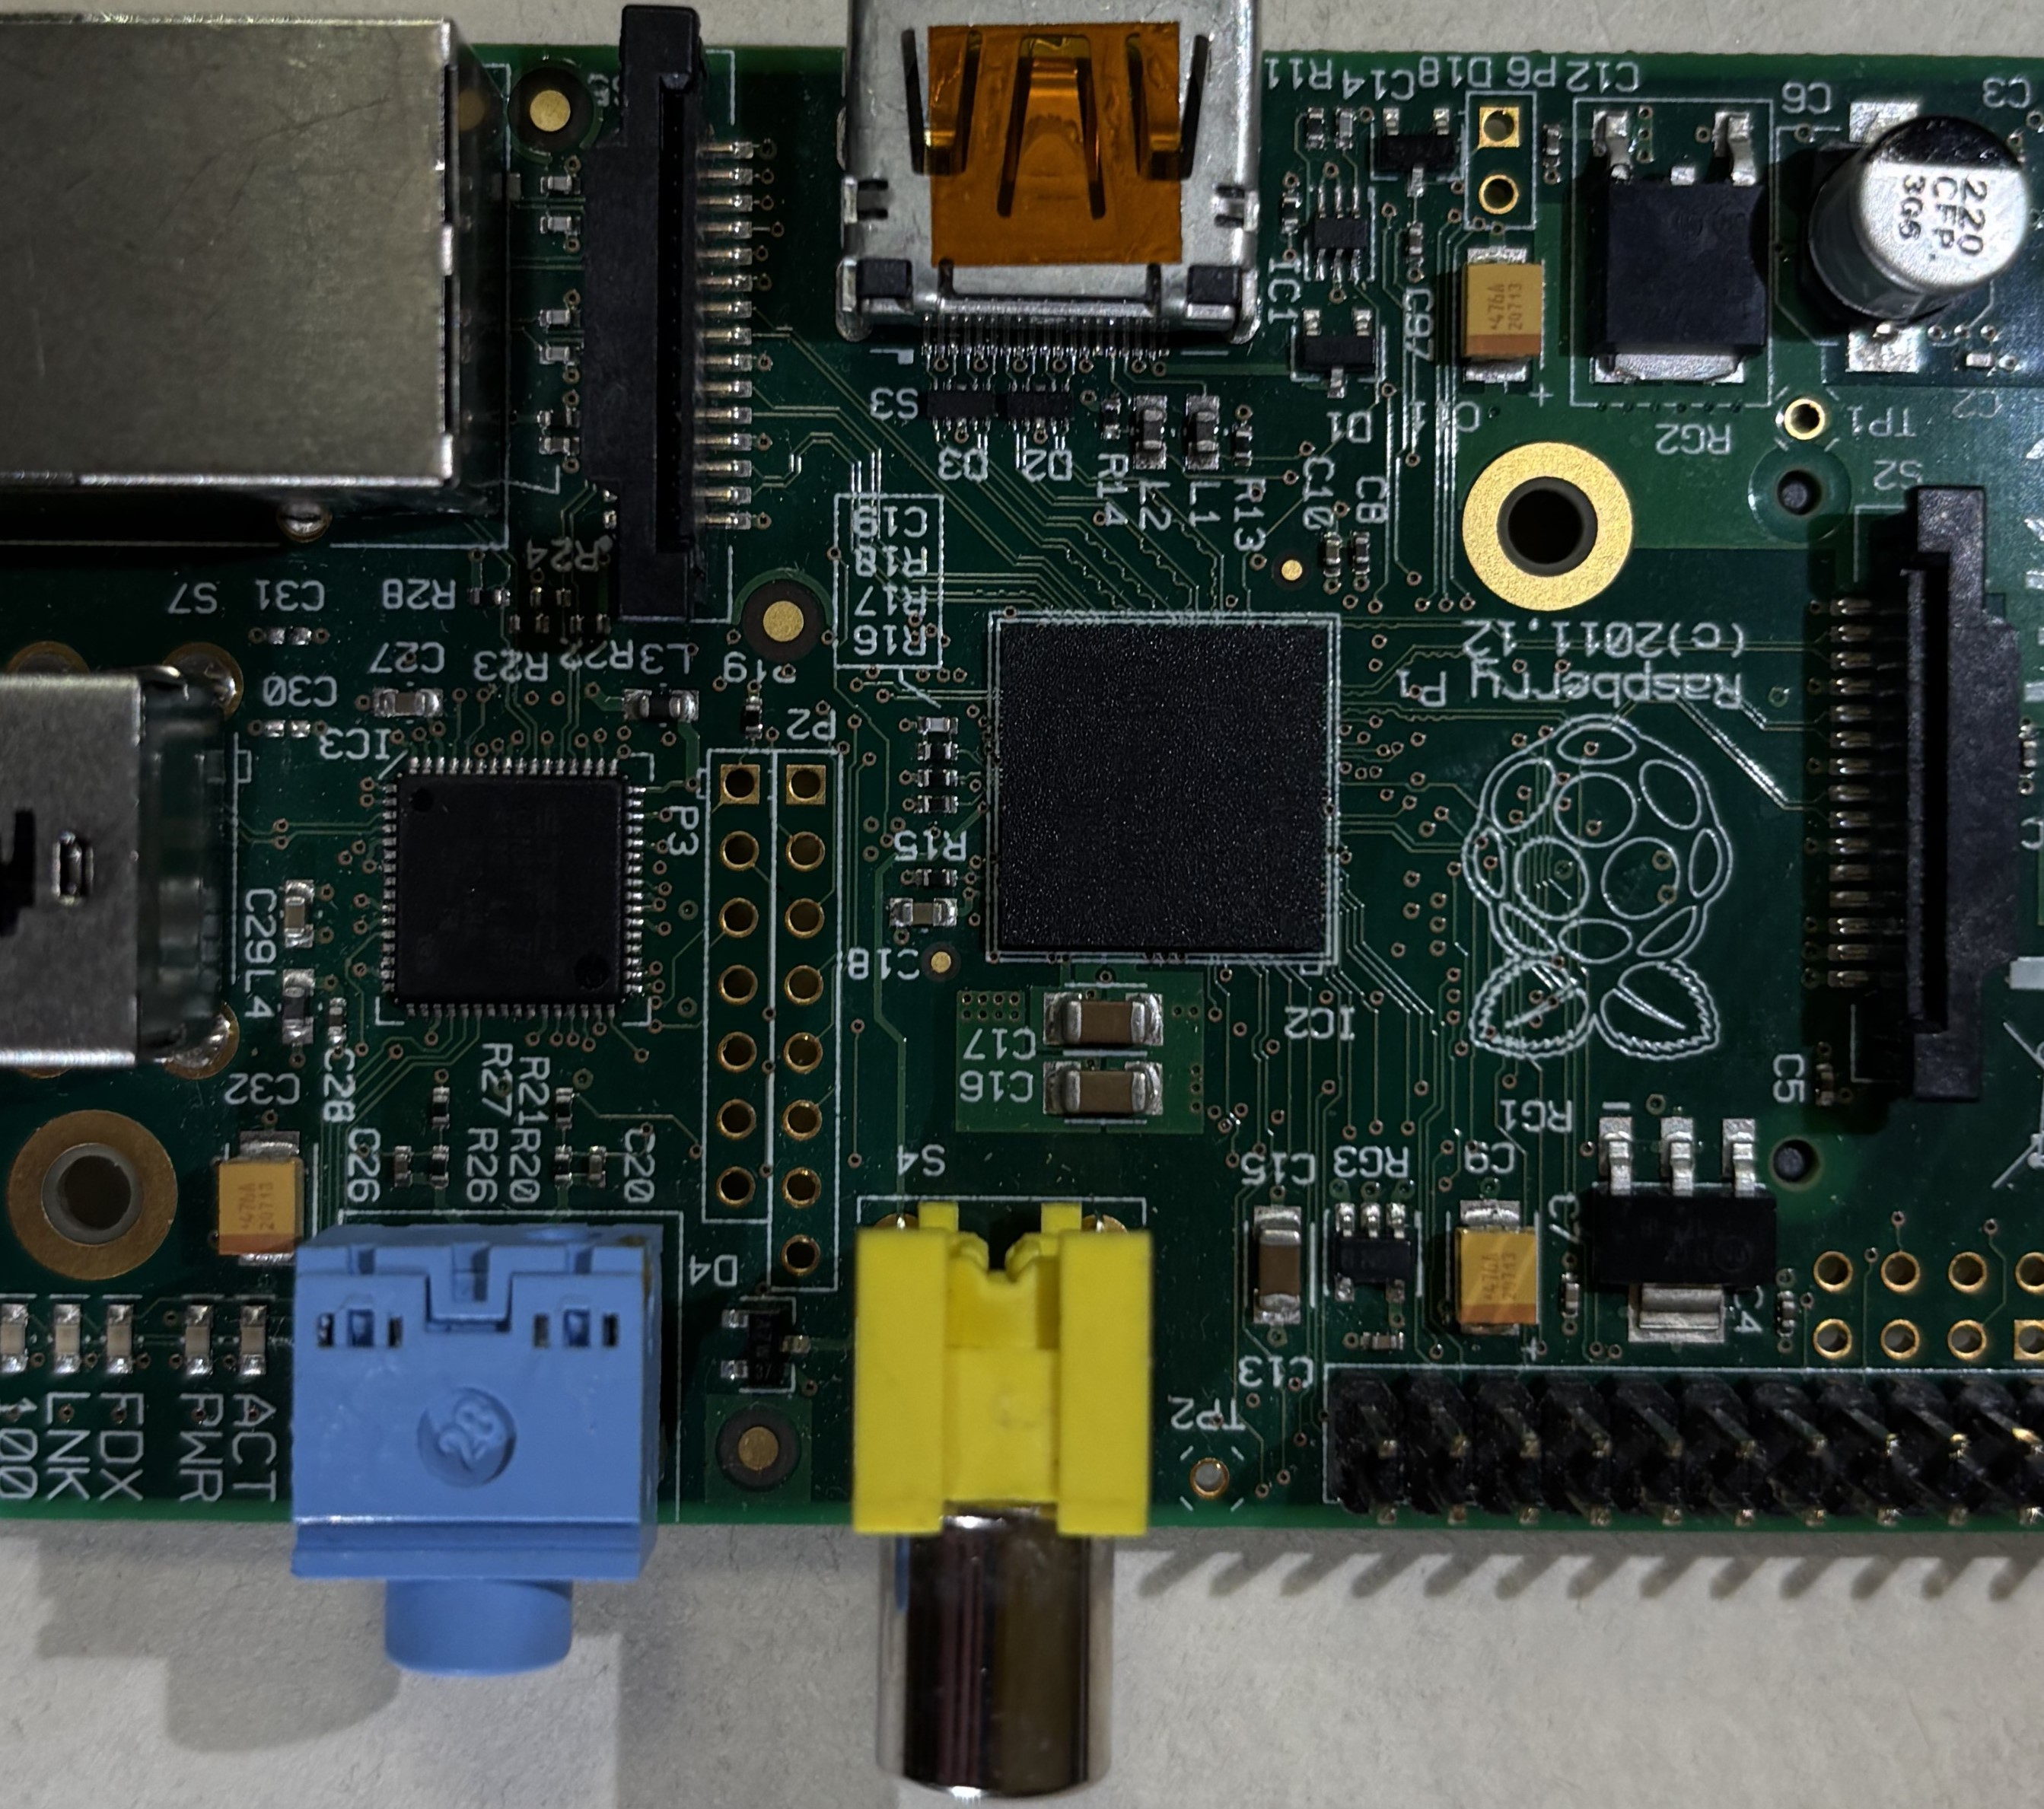Induktor: (1138, 405, 1163, 452), (637, 693, 682, 716), (1192, 409, 1215, 454)
